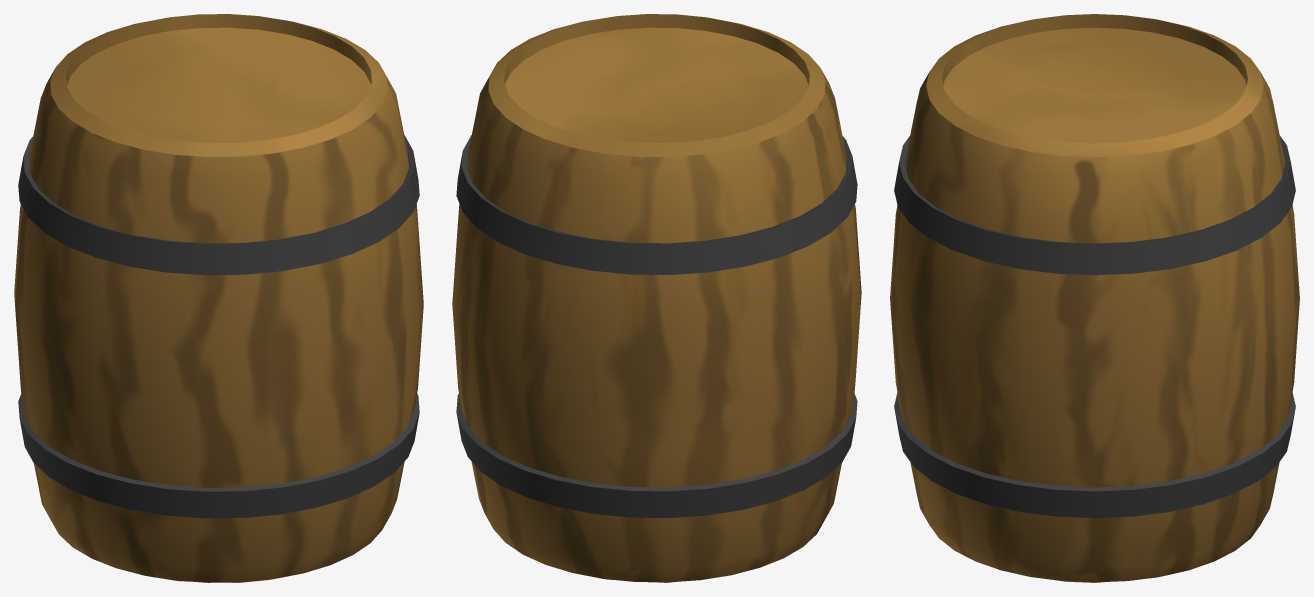
Rendered from barrel1.obj.
3 renders of one model, left to right at view 1: azimuth 30°, elevation 25°; view 2: azimuth 150°, elevation 25°; view 3: azimuth 270°, elevation 25°, orthographic.
Visible parts, largest first — view 1: Cylinder.004; view 2: Cylinder.004; view 3: Cylinder.004.
Part boxes in pixels (x1,y1,x2,y2): Cylinder.004: (14,14,423,582); Cylinder.004: (452,14,861,582); Cylinder.004: (890,14,1299,582).
Size of the model in its own units: 3.69 by 4.37 by 3.69.
Materials: 2 (1 with a texture image).
